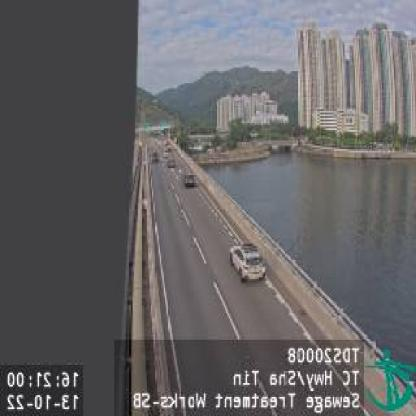Car: (228, 242, 266, 283), (182, 172, 198, 189)
